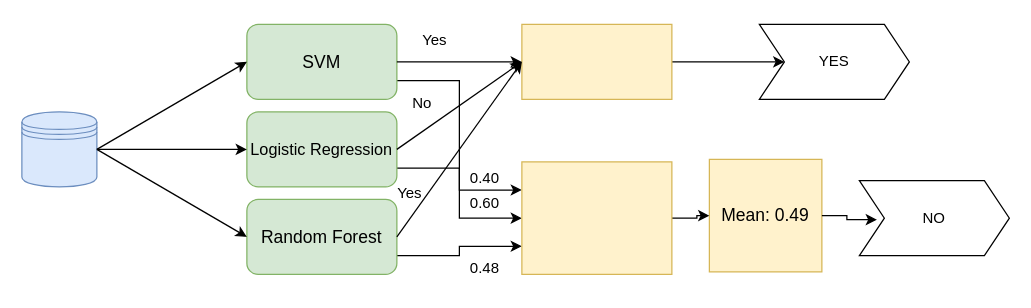
The diagram is 1031 pixels wide and 308 high, and some of its shapes have lost their labels. The centre of each missing label's shape, as x and y in pixels:
"Dataset" belongs at point (59, 149).
"Hard Voting Yes: 2 No: 1" belongs at point (596, 61).
"Soft Voting SVM: 0.4 (No) LR: 0.60 (YES) RF: 0.48 (YES)" belongs at point (596, 217).
